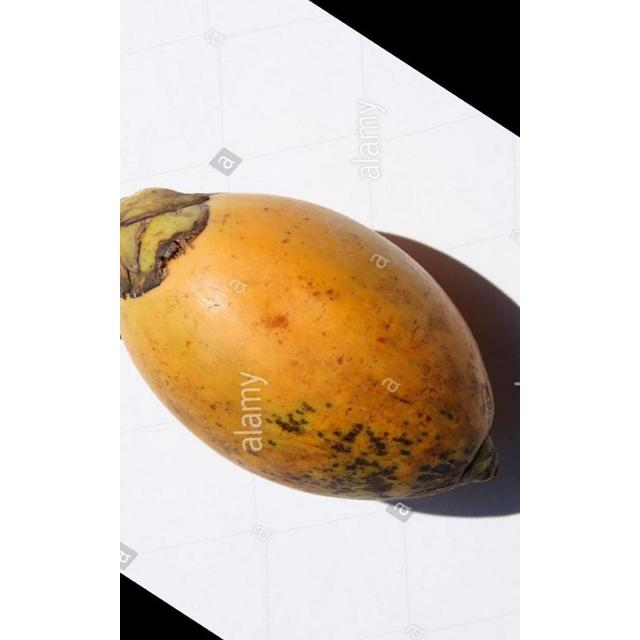good: (120, 190, 500, 506)
